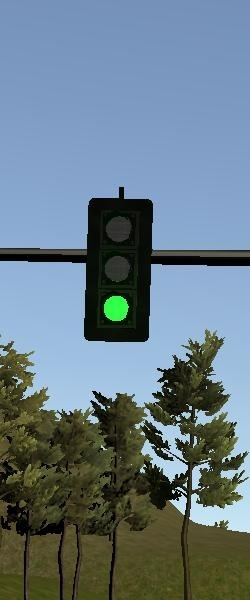Green: (85, 198, 150, 342)
